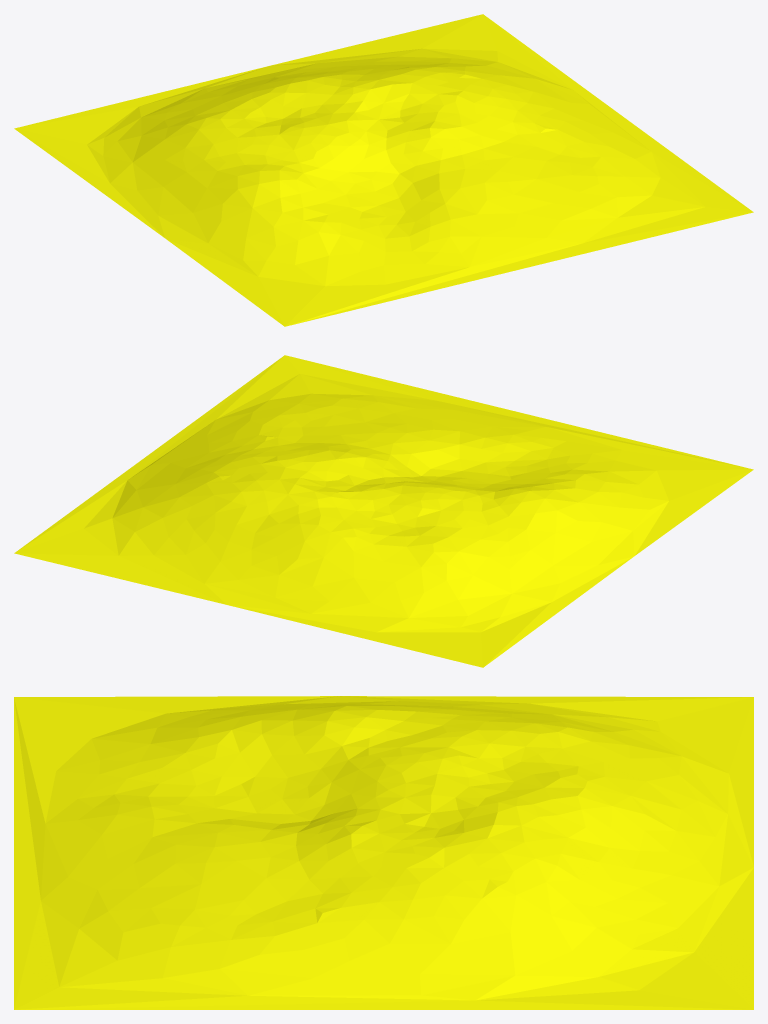
File: hills02.glb
3 renders of one model, top to bottom at view 1: azimuth 30°, elevation 25°; view 2: azimuth 150°, elevation 25°; view 3: azimuth 270°, elevation 25°, orthographic. The views are drawn at different scales.
Visible parts, largest first — view 1: hills02; view 2: hills02; view 3: hills02.
Boxes of the visible parts, box(x1,y1,x2,y2) form: hills02: box(14, 14, 753, 326); hills02: box(14, 355, 753, 667); hills02: box(14, 696, 753, 1009).
Bounding box in the file's own units: 20 × 1.82 × 20.
1 material, 1 textured.
